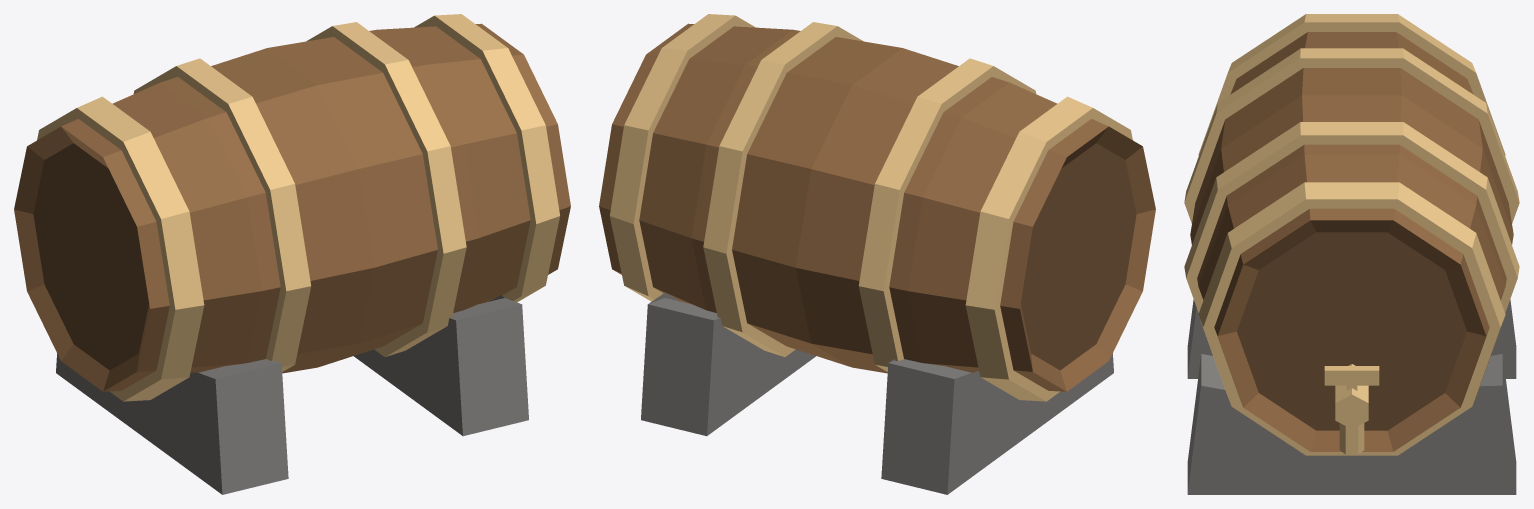
The model's file is it-drink.glb.
3 views of the same model, side by side, from view 1: azimuth 30°, elevation 25°; view 2: azimuth 150°, elevation 25°; view 3: azimuth 270°, elevation 25° (orthographic).
Parts seen in each view (by area): view 1: keg, cradle_l, cradle_r, hoop_l_outer, hoop_r_inner, hoop_l_inner, hoop_r_outer; view 2: keg, cradle_l, cradle_r, hoop_l_outer, hoop_r_inner, hoop_l_inner, hoop_r_outer; view 3: keg, cradle_r, hoop_r_outer, hoop_r_inner, hoop_l_inner, hoop_l_outer, cradle_l, tap, tap_handle.
Boxes of the visible parts, left/top/right/bottom form: keg: left=14, top=23, right=570, bottom=391; cradle_l: left=56, top=353, right=288, bottom=494; cradle_r: left=354, top=295, right=528, bottom=436; hoop_l_outer: left=37, top=96, right=204, bottom=401; hoop_r_inner: left=306, top=22, right=466, bottom=356; hoop_l_inner: left=133, top=58, right=311, bottom=371; hoop_r_outer: left=414, top=14, right=559, bottom=302; keg: left=599, top=23, right=1155, bottom=391; cradle_l: left=881, top=353, right=1113, bottom=494; cradle_r: left=641, top=292, right=815, bottom=436; hoop_l_outer: left=965, top=96, right=1132, bottom=401; hoop_r_inner: left=703, top=22, right=863, bottom=356; hoop_l_inner: left=858, top=58, right=1036, bottom=371; hoop_r_outer: left=610, top=14, right=755, bottom=301; keg: left=1190, top=32, right=1513, bottom=451; cradle_r: left=1187, top=354, right=1516, bottom=494; hoop_r_outer: left=1198, top=182, right=1505, bottom=455; hoop_r_inner: left=1184, top=122, right=1519, bottom=312; hoop_l_inner: left=1184, top=48, right=1519, bottom=223; hoop_l_outer: left=1198, top=14, right=1505, bottom=155; cradle_l: left=1187, top=299, right=1516, bottom=378; tap: left=1335, top=364, right=1368, bottom=454; tap_handle: left=1324, top=366, right=1379, bottom=390.
Size of what is drawn, in the model's own units: 0.395 by 0.2663 by 0.2447.
